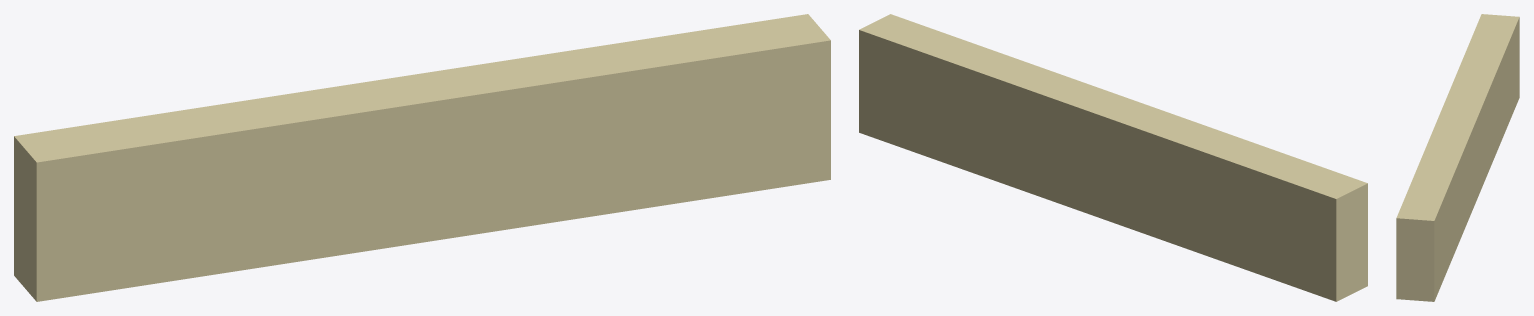
The model's file is wall.FBX.
The picture shows the model from 3 angles, left to right: view 1: azimuth 30°, elevation 25°; view 2: azimuth 150°, elevation 25°; view 3: azimuth 270°, elevation 25°; orthographic projection. The views are drawn at different scales.
Visible parts, largest first — view 1: Building Wall Small; view 2: Building Wall Small; view 3: Building Wall Small.
Part boxes in pixels (bbox=[...]): Building Wall Small: bbox=[14, 14, 830, 301]; Building Wall Small: bbox=[859, 14, 1367, 301]; Building Wall Small: bbox=[1396, 14, 1519, 301].
Size of the model in its own units: 186 by 33.98 by 46.89.
